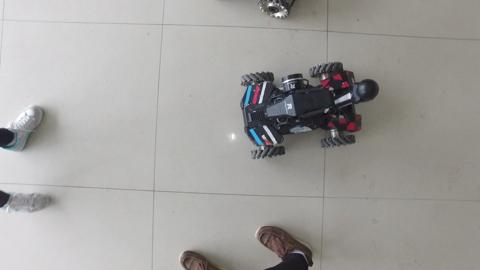chariot: (234, 60, 384, 165)
